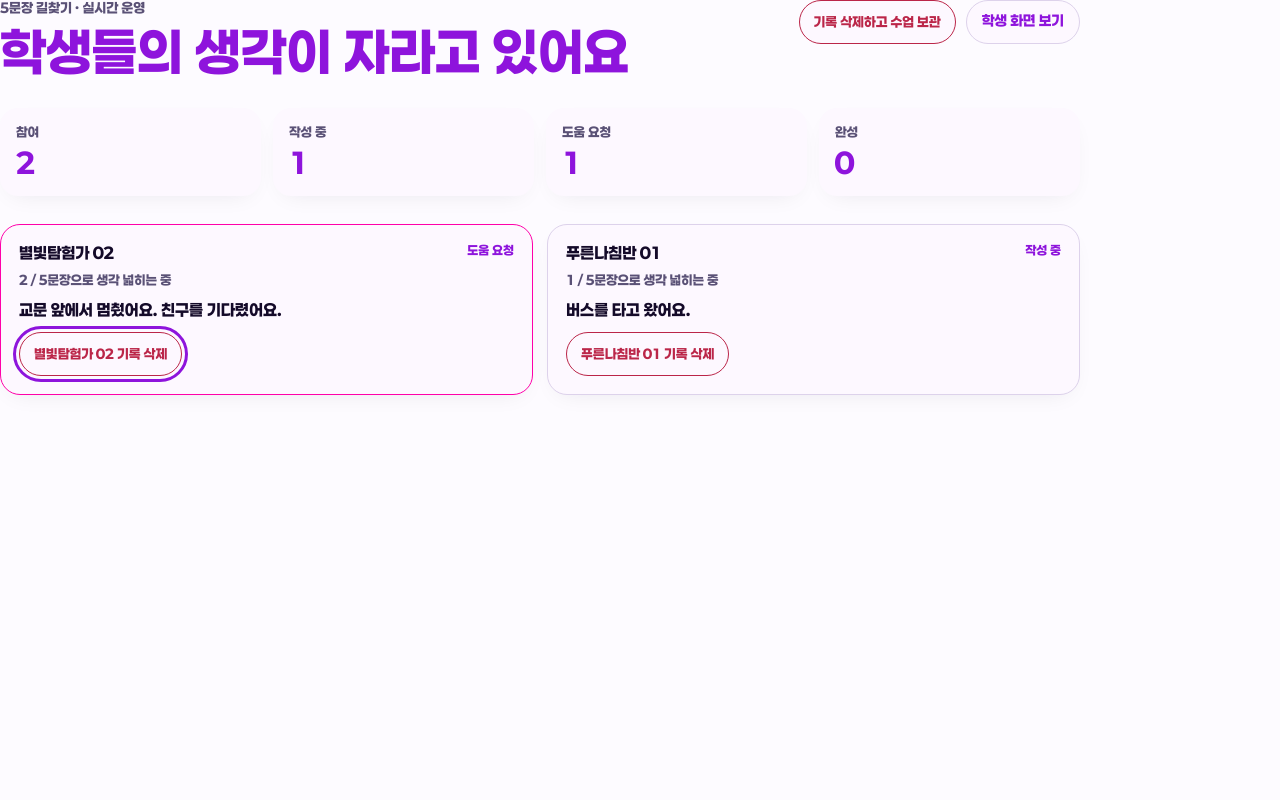
TeacherDashboard › Escape로 확인을 닫고 실행한 버튼으로 초점을 돌린다
This screenshot has width=1280, height=800.
Click the button "별빛탐험가 02 기록 삭제".
click(101, 354)  # box top-left (19, 332), bottom-right (182, 376)
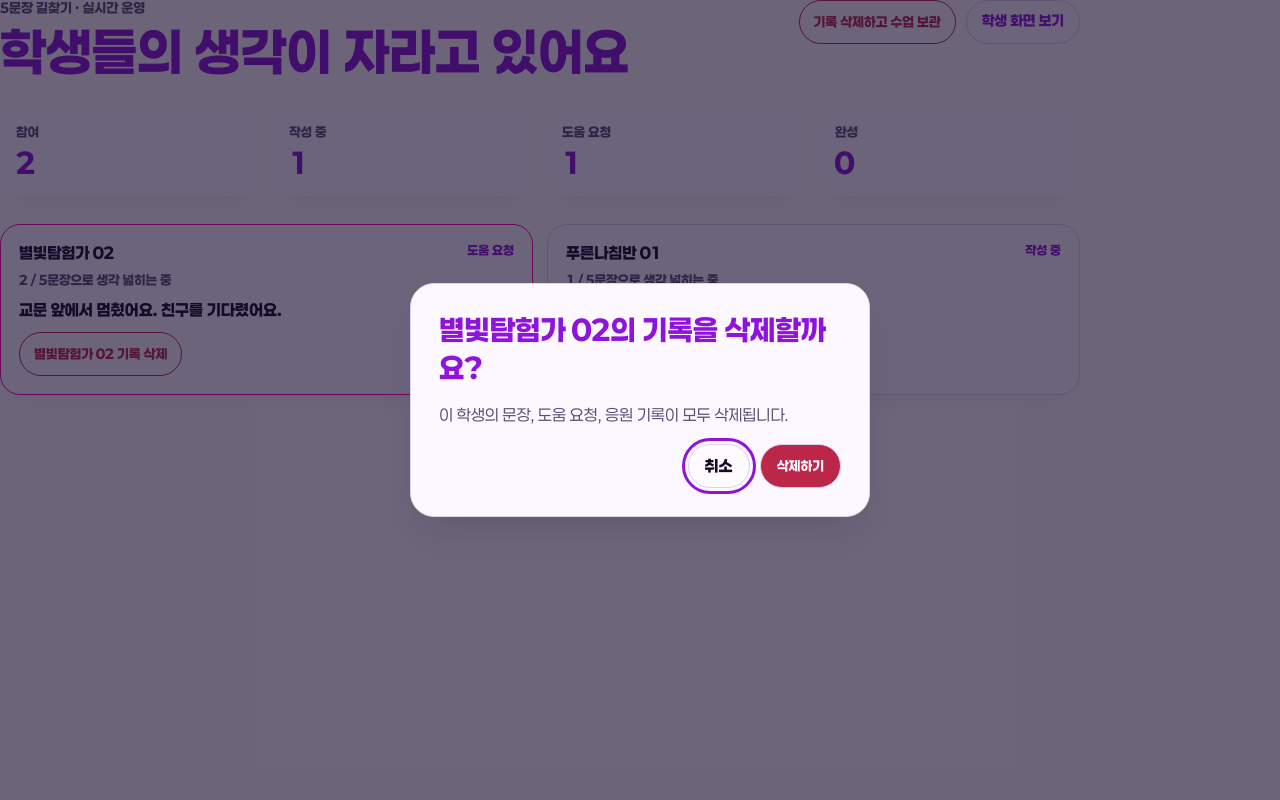
Press Escape
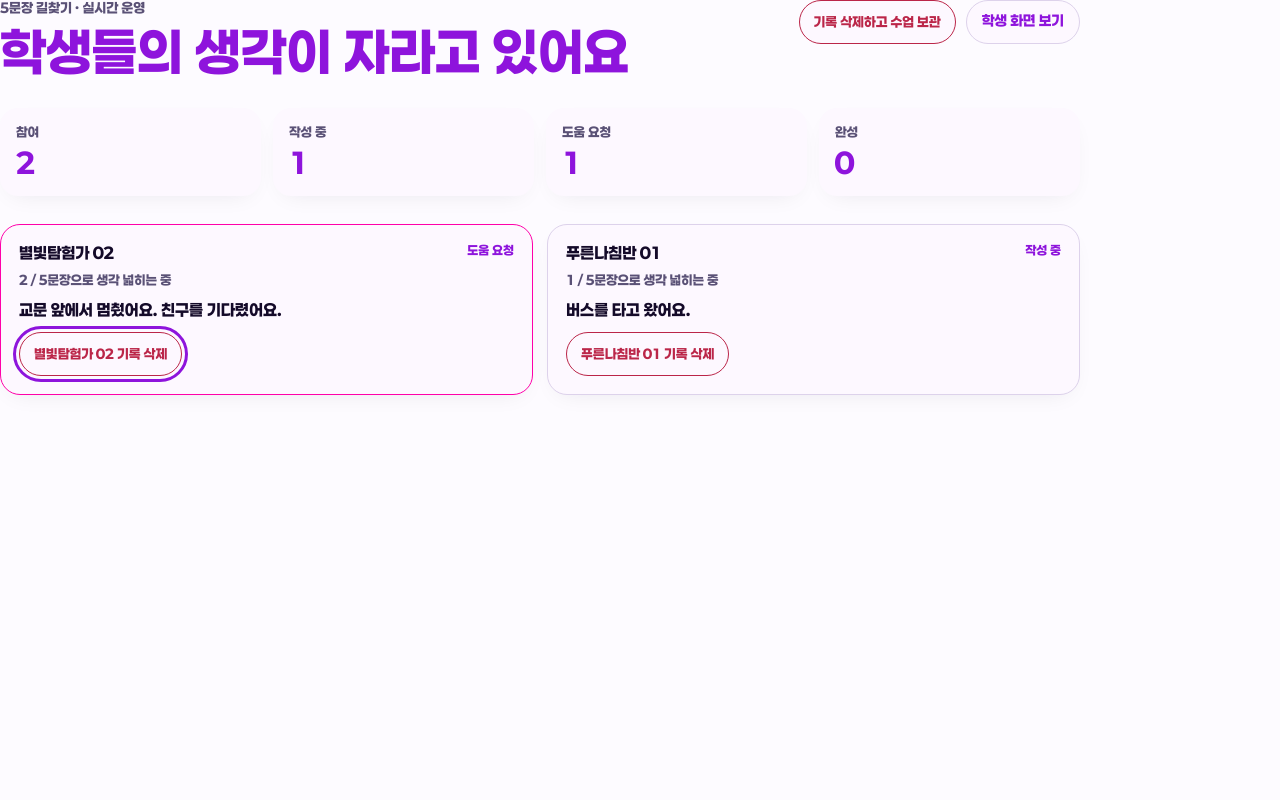
Expected: the dialog is gone
